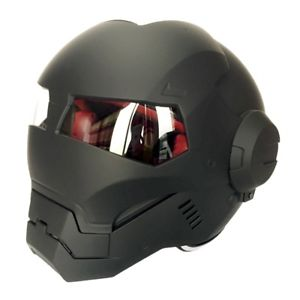with_helmet: (24, 9, 280, 275)
